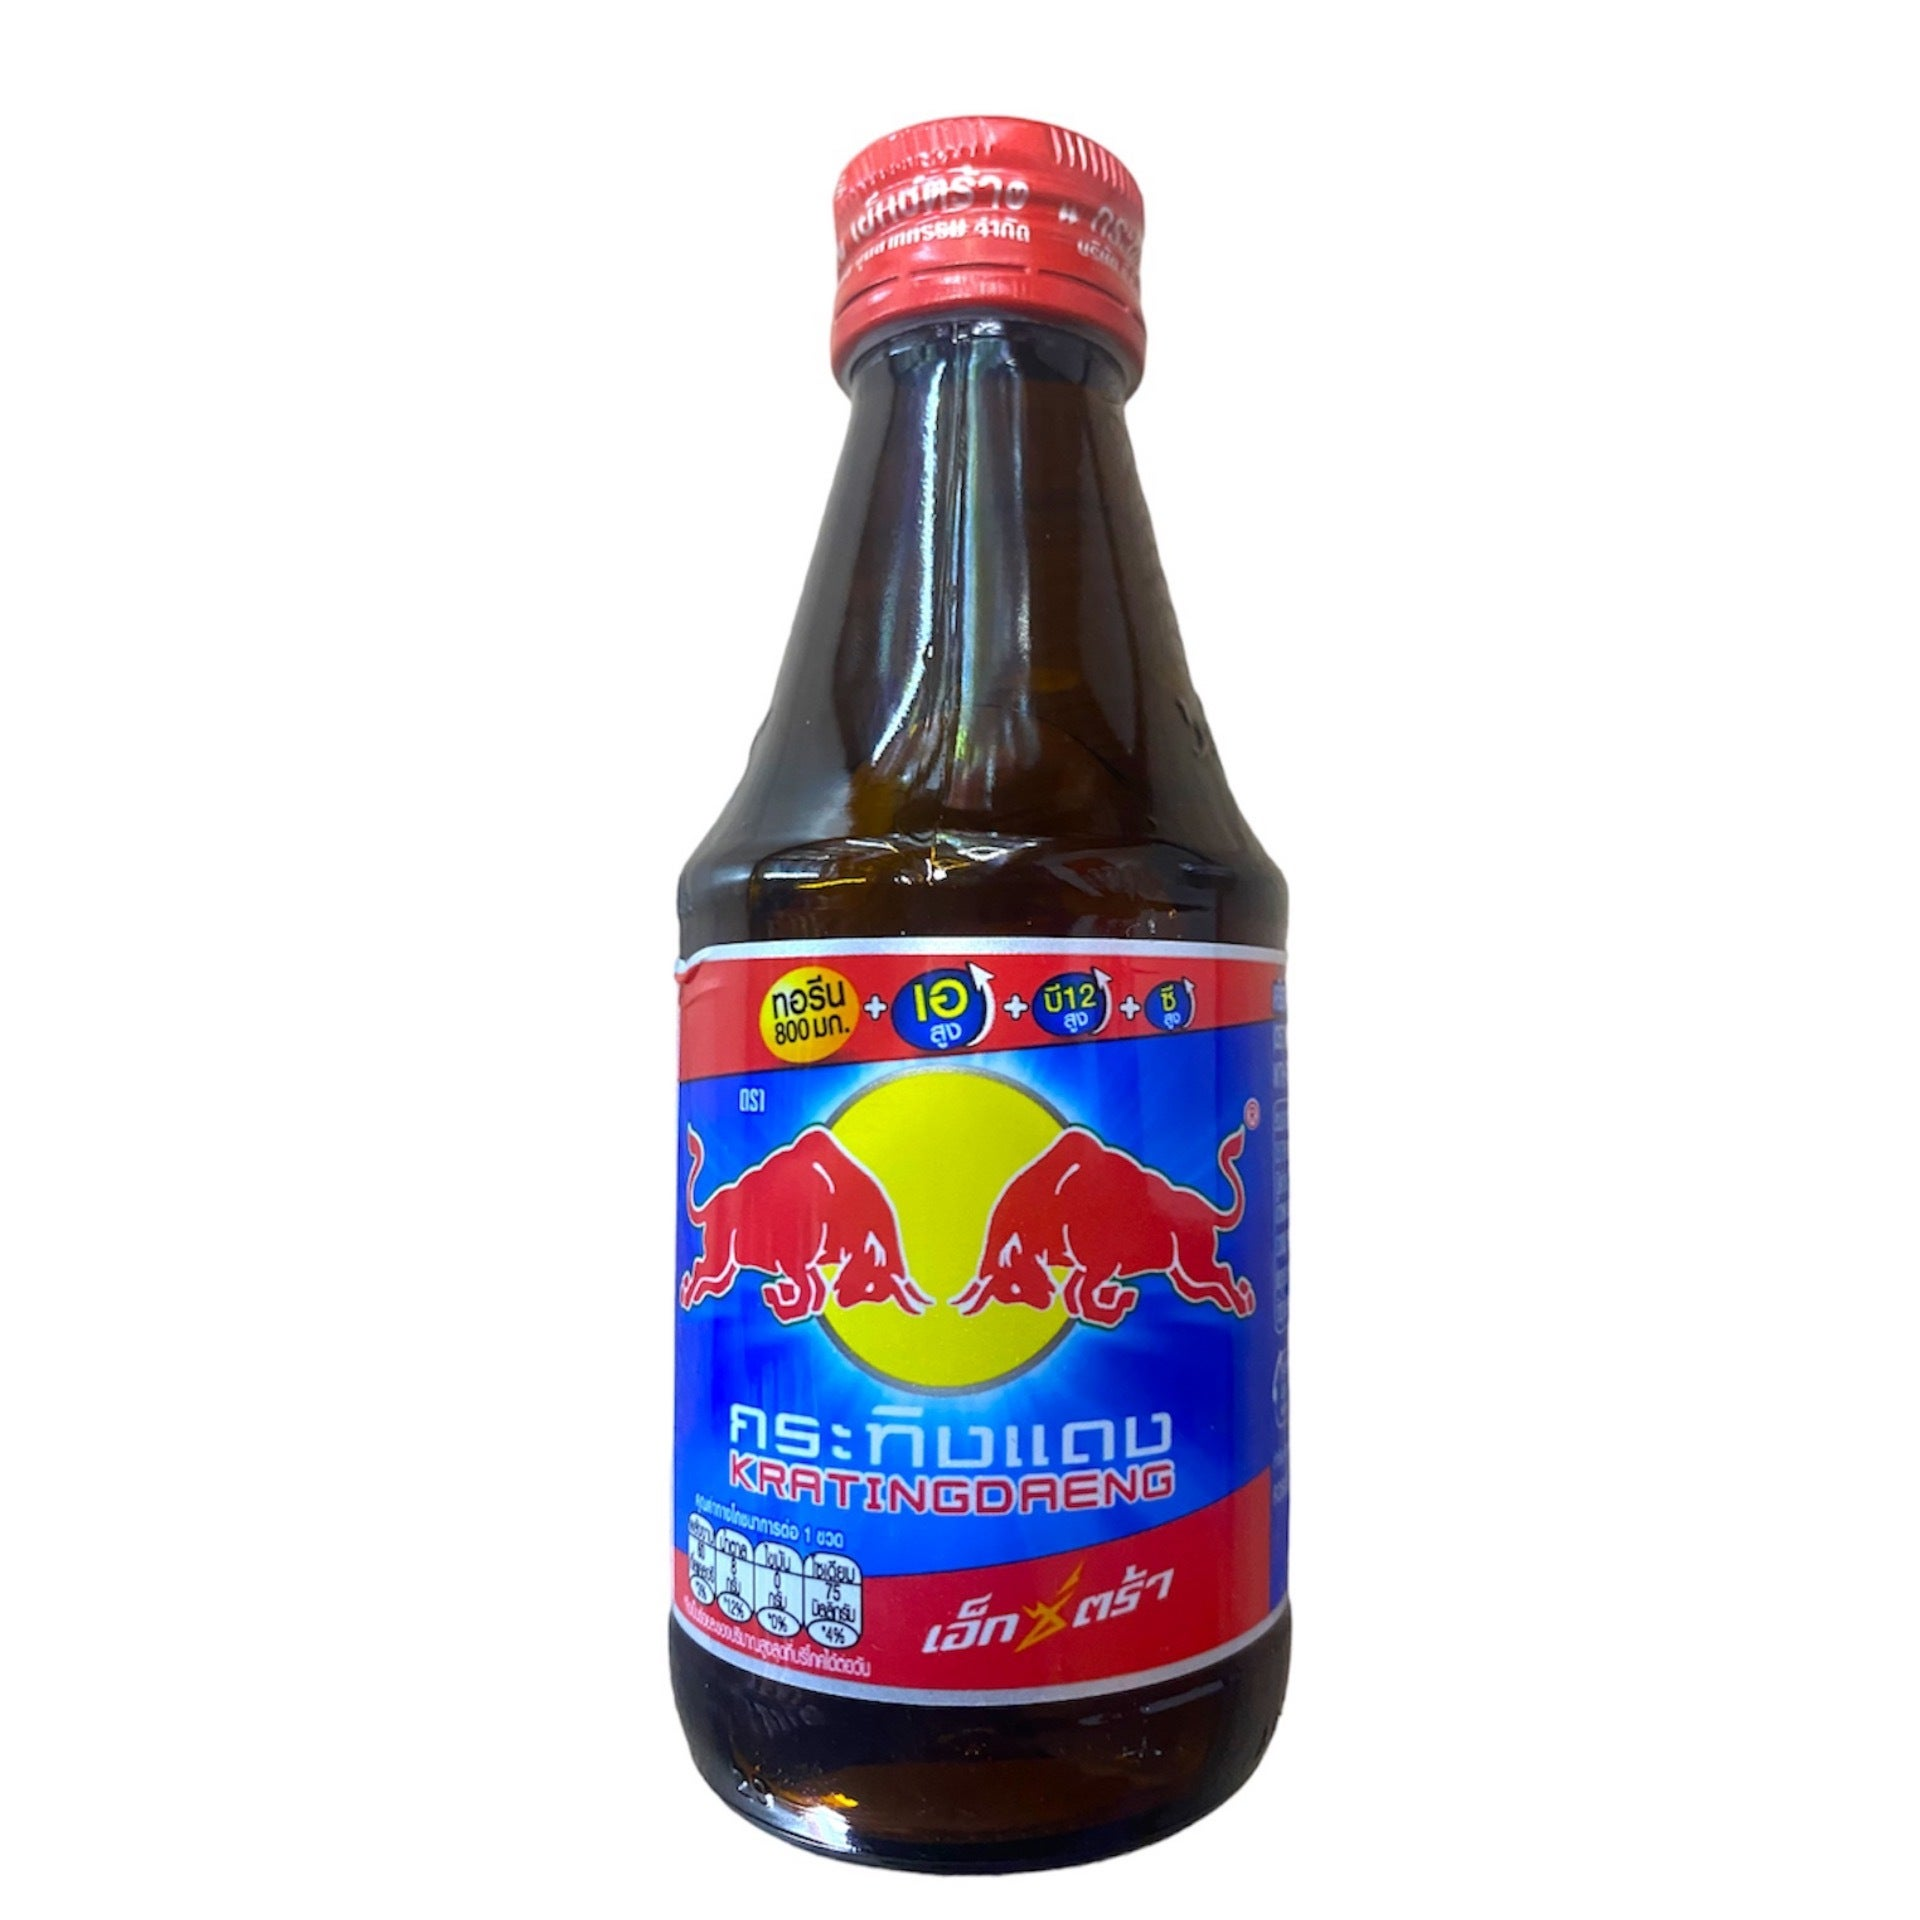glass_bottle: (608, 83, 1350, 1894)
